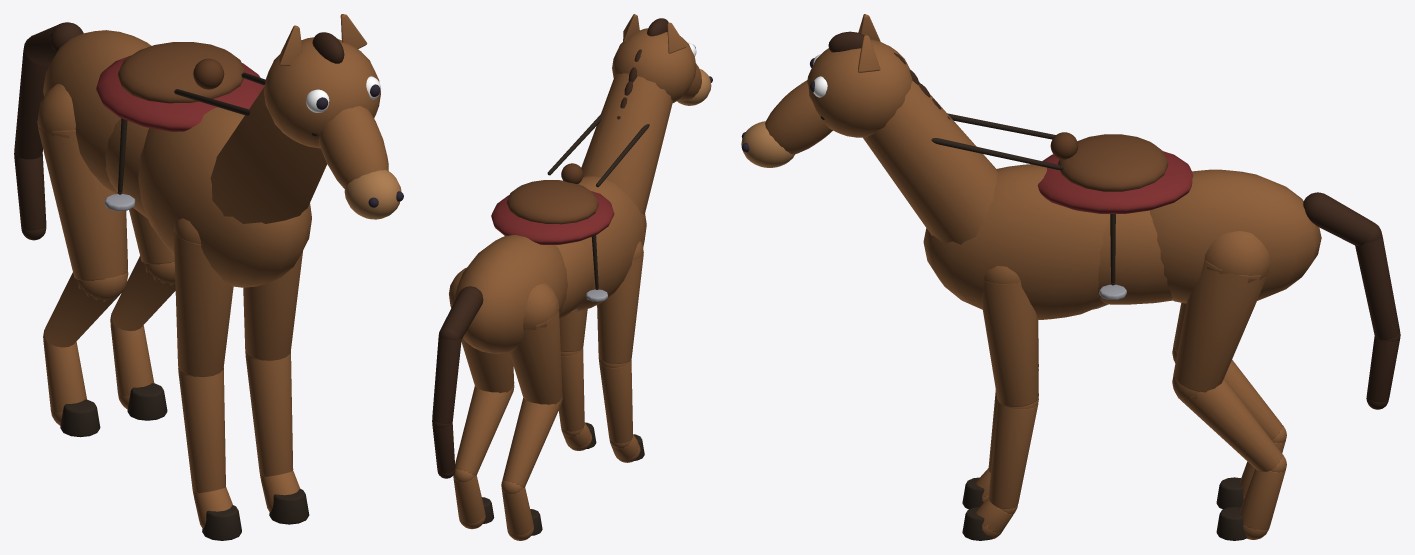
The model's file is horse_sela.glb.
The picture shows the model from 3 angles, left to right: view 1: azimuth 30°, elevation 25°; view 2: azimuth 150°, elevation 25°; view 3: azimuth 270°, elevation 25°; orthographic projection. The views are drawn at different scales.
Parts seen in each view (by area): view 1: horse_sela; view 2: horse_sela; view 3: horse_sela.
Boxes of the visible parts, box(x1,y1,x2,y2) form: horse_sela: box(14, 14, 403, 540); horse_sela: box(432, 14, 712, 540); horse_sela: box(741, 14, 1400, 540).
Bounding box in the file's own units: 0.7711 × 2.76 × 3.3.
